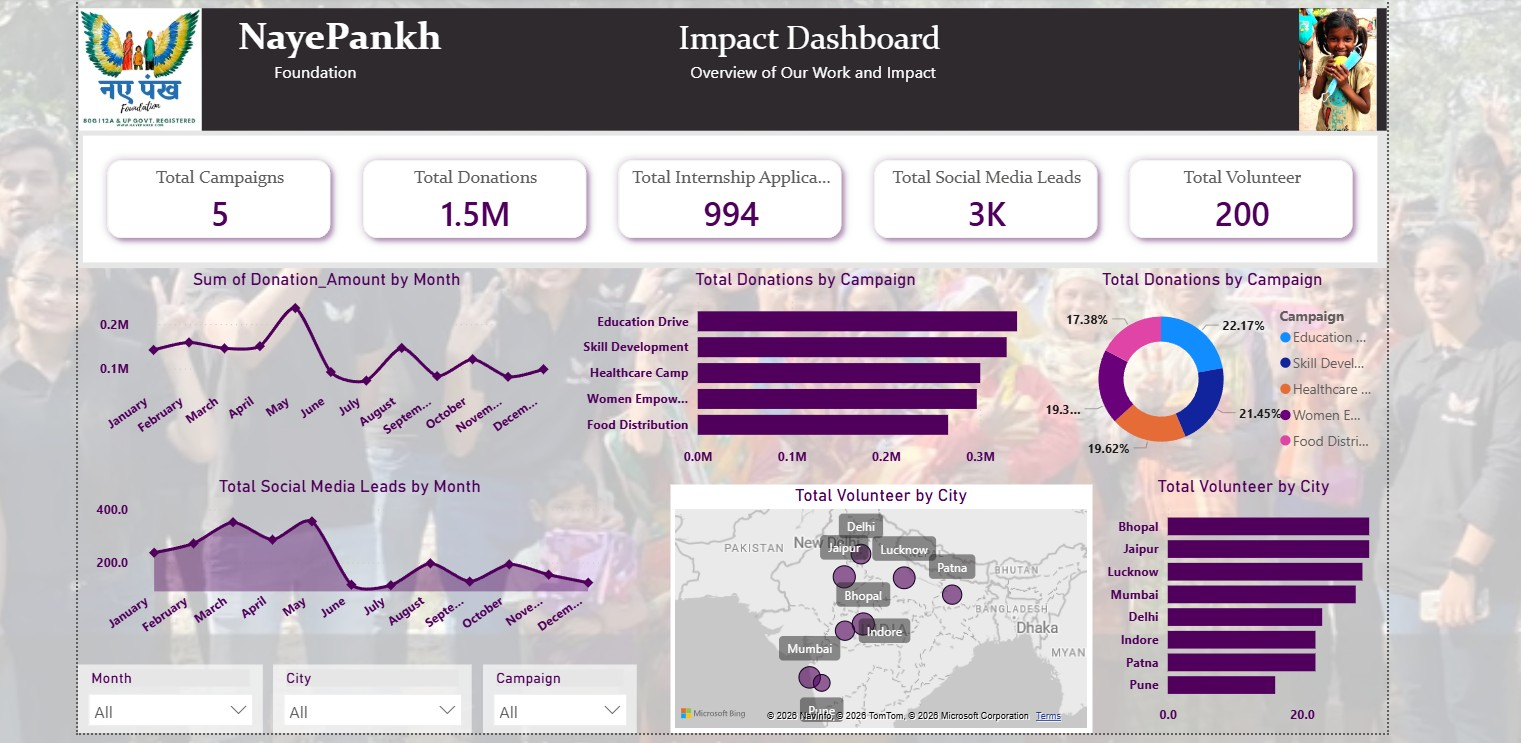

The dashboard page shown, as its layout file describes it:
{"tool":"powerbi","page":{"name":"Page 1","canvas":[1280,720],"ordinal":0},"visuals":[{"type":"textbox","box":[121.1,11,1159.2,119.8],"z":0},{"type":"image","box":[0,11,121.1,119.8],"z":1000},{"type":"cardVisual","fields":{"Data":["NayePankh_Dummy_Data_200Rows.Total Campaigns","NayePankh_Dummy_Data_200Rows.Total Donations","NayePankh_Dummy_Data_200Rows.Total Internship Applications","NayePankh_Dummy_Data_200Rows.Total Social Media Leads","NayePankh_Dummy_Data_200Rows.Total Volunteer"]},"box":[0,130.8,1280.3,134.5],"z":2000},{"type":"lineChart","fields":{"Category":["NayePankh_Dummy_Data_200Rows.Join_Date.Variation.Date Hierarchy.Month"],"Y":["Sum(NayePankh_Dummy_Data_200Rows.Donation_Amount)"]},"box":[12.2,265.4,462.2,176.1],"z":3000},{"type":"clusteredBarChart","fields":{"Category":["NayePankh_Dummy_Data_200Rows.Campaign"],"Y":["NayePankh_Dummy_Data_200Rows.Total Donations"]},"box":[474.5,265.4,474.5,203],"z":4000},{"type":"donutChart","fields":{"Category":["NayePankh_Dummy_Data_200Rows.Campaign"],"Y":["NayePankh_Dummy_Data_200Rows.Total Donations"]},"box":[939.1,265.4,341.2,198.1],"z":5000},{"type":"barChart","fields":{"Category":["NayePankh_Dummy_Data_200Rows.City"],"Y":["NayePankh_Dummy_Data_200Rows.Total Volunteer"]},"box":[1000.3,468.3,280,251.9],"z":6000},{"type":"areaChart","fields":{"Category":["NayePankh_Dummy_Data_200Rows.Join_Date.Variation.Date Hierarchy.Month"],"Y":["NayePankh_Dummy_Data_200Rows.Total Social Media Leads"]},"box":[12.2,468.3,507.5,166.3],"z":7000},{"type":"slicer","fields":{"Values":["NayePankh_Dummy_Data_200Rows.City"]},"box":[190.8,653,194.4,67.3],"z":8000},{"type":"slicer","fields":{"Values":["NayePankh_Dummy_Data_200Rows.Campaign"]},"box":[396.2,653,150.4,67.3],"z":9000},{"type":"slicer","fields":{"Values":["NayePankh_Dummy_Data_200Rows.Join_Date.Variation.Date Hierarchy.Month"]},"box":[0,653,181,67.3],"z":10000},{"type":"map","fields":{"Category":["NayePankh_Dummy_Data_200Rows.City"],"Size":["NayePankh_Dummy_Data_200Rows.Total Volunteer"]},"box":[579.6,476.9,412.1,243.3],"z":11000},{"type":"image","box":[1184.9,11,95.4,119.8],"z":12000}]}

Visuals, with their boxes on the page's 1280x720 design canvas (x1, y1, x2, y2). These are canvas units, not pixel positions in the 1521x743 screenshot, which may show the page scaled, cropped or inside an application window:
textbox: box=[121, 11, 1280, 131]
image: box=[0, 11, 121, 131]
cardVisual - NayePankh_Dummy_Data_200Rows.Total Campaigns x NayePankh_Dummy_Data_200Rows.Total Donations: box=[0, 131, 1280, 265]
lineChart - NayePankh_Dummy_Data_200Rows.Join_Date.Variation.Date Hierarchy.Month x Sum(NayePankh_Dummy_Data_200Rows.Donation_Amount): box=[12, 265, 474, 442]
clusteredBarChart - NayePankh_Dummy_Data_200Rows.Campaign x NayePankh_Dummy_Data_200Rows.Total Donations: box=[474, 265, 949, 468]
donutChart - NayePankh_Dummy_Data_200Rows.Campaign x NayePankh_Dummy_Data_200Rows.Total Donations: box=[939, 265, 1280, 464]
barChart - NayePankh_Dummy_Data_200Rows.City x NayePankh_Dummy_Data_200Rows.Total Volunteer: box=[1000, 468, 1280, 720]
areaChart - NayePankh_Dummy_Data_200Rows.Join_Date.Variation.Date Hierarchy.Month x NayePankh_Dummy_Data_200Rows.Total Social Media Leads: box=[12, 468, 520, 635]
slicer - NayePankh_Dummy_Data_200Rows.City: box=[191, 653, 385, 720]
slicer - NayePankh_Dummy_Data_200Rows.Campaign: box=[396, 653, 547, 720]
slicer - NayePankh_Dummy_Data_200Rows.Join_Date.Variation.Date Hierarchy.Month: box=[0, 653, 181, 720]
map - NayePankh_Dummy_Data_200Rows.City x NayePankh_Dummy_Data_200Rows.Total Volunteer: box=[580, 477, 992, 720]
image: box=[1185, 11, 1280, 131]
